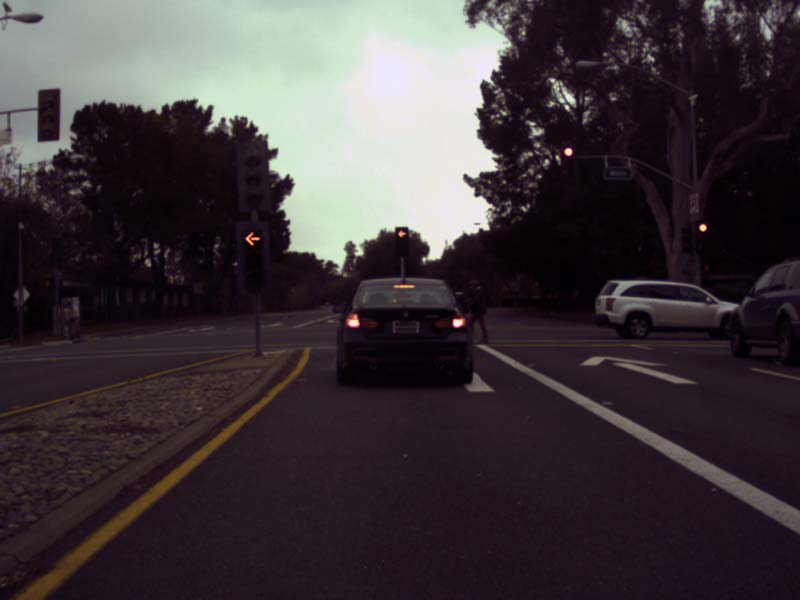Red: (237, 221, 270, 291), (559, 144, 577, 181), (695, 220, 708, 254), (395, 226, 408, 255)
